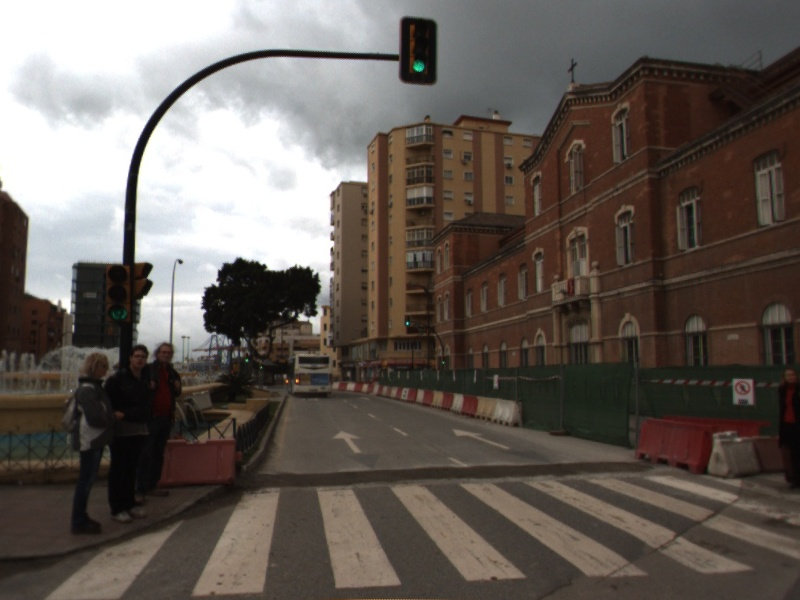STRAIGHT: (451, 426, 513, 451), (330, 428, 366, 455)
